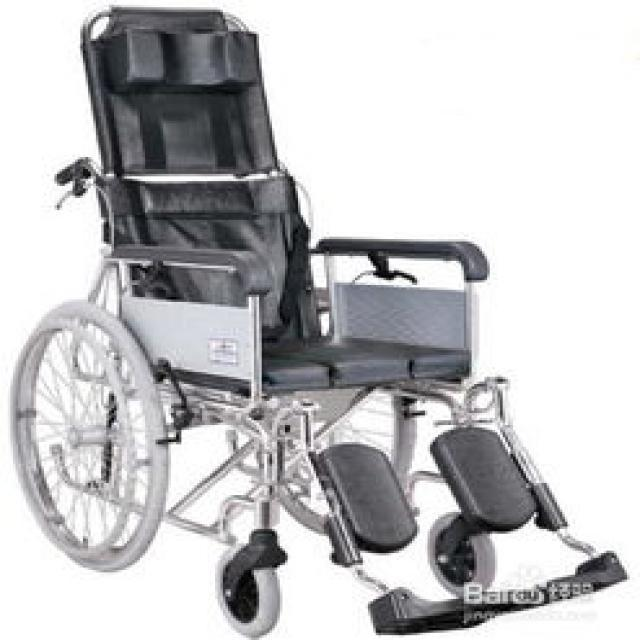wheelchairs: (16, 6, 628, 634)
